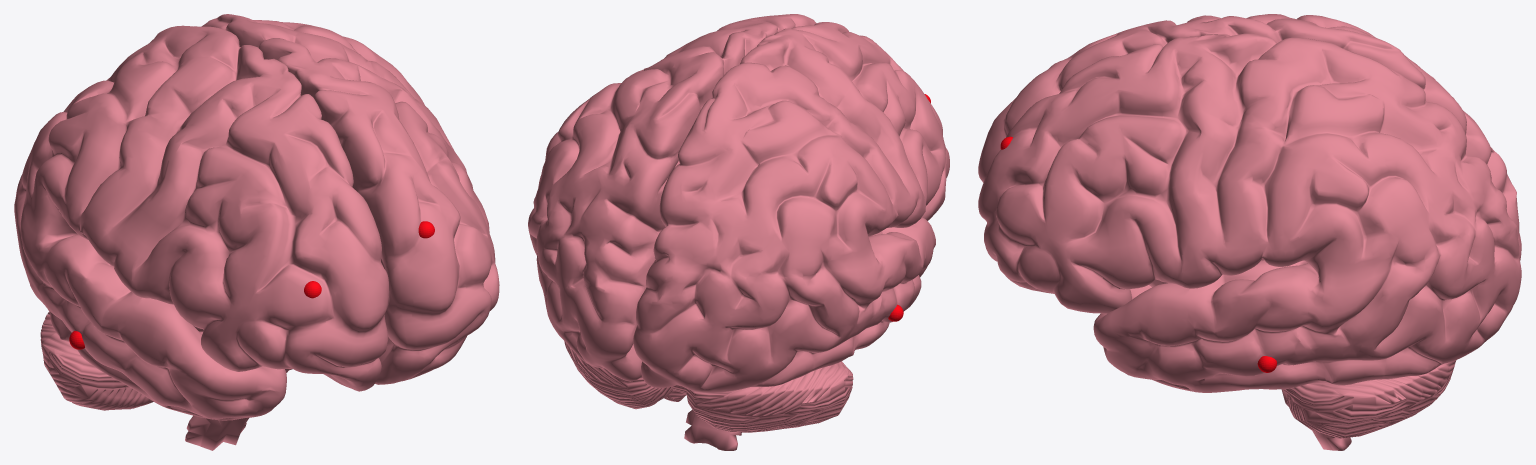
Rendered from brain.glb.
3 renders of one model, left to right at view 1: azimuth 30°, elevation 25°; view 2: azimuth 150°, elevation 25°; view 3: azimuth 270°, elevation 25°, orthographic. The views are drawn at different scales.
Visible parts, largest first — view 1: Cerebrum-r, Cerebrum-l, Celebellum, Brainstem; view 2: Cerebrum-r, Cerebrum-l, Celebellum, Brainstem; view 3: Cerebrum-l, Cerebrum-r, Celebellum, Brainstem.
Boxes of the visible parts, bbox=[...] form: Cerebrum-r: bbox=[14, 25, 388, 420]; Cerebrum-l: bbox=[201, 14, 499, 384]; Celebellum: bbox=[40, 312, 292, 410]; Brainstem: bbox=[185, 326, 289, 450]; Cerebrum-r: bbox=[633, 22, 949, 392]; Cerebrum-l: bbox=[528, 14, 816, 381]; Celebellum: bbox=[564, 341, 853, 432]; Brainstem: bbox=[684, 409, 741, 450]; Cerebrum-l: bbox=[978, 33, 1521, 392]; Cerebrum-r: bbox=[978, 14, 1521, 260]; Celebellum: bbox=[1283, 360, 1456, 438]; Brainstem: bbox=[1149, 259, 1351, 450].
Bounding box in the file's own units: 3.8 × 4.02 × 4.73.
